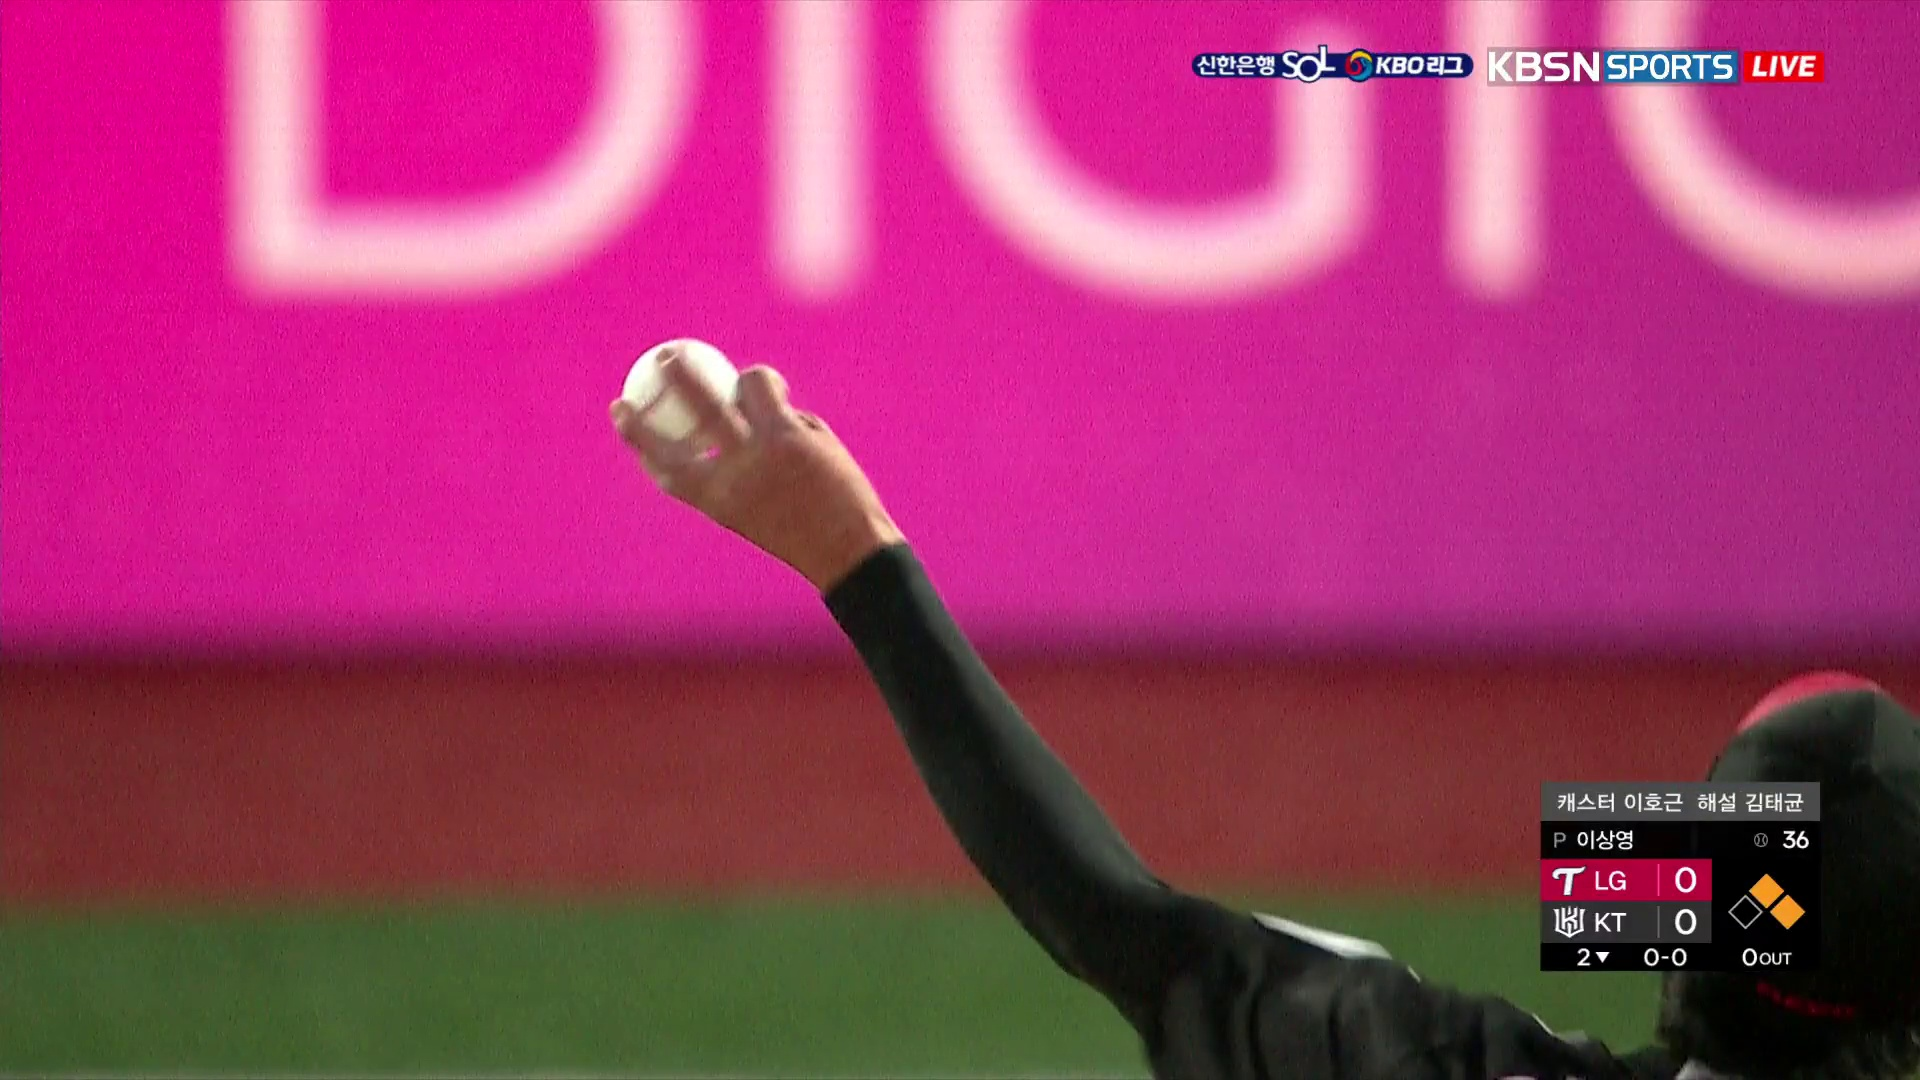zoomin_hand: (604, 328, 1185, 989)
